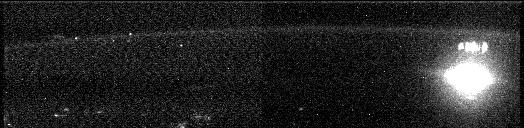positive: (455, 38, 493, 57)
